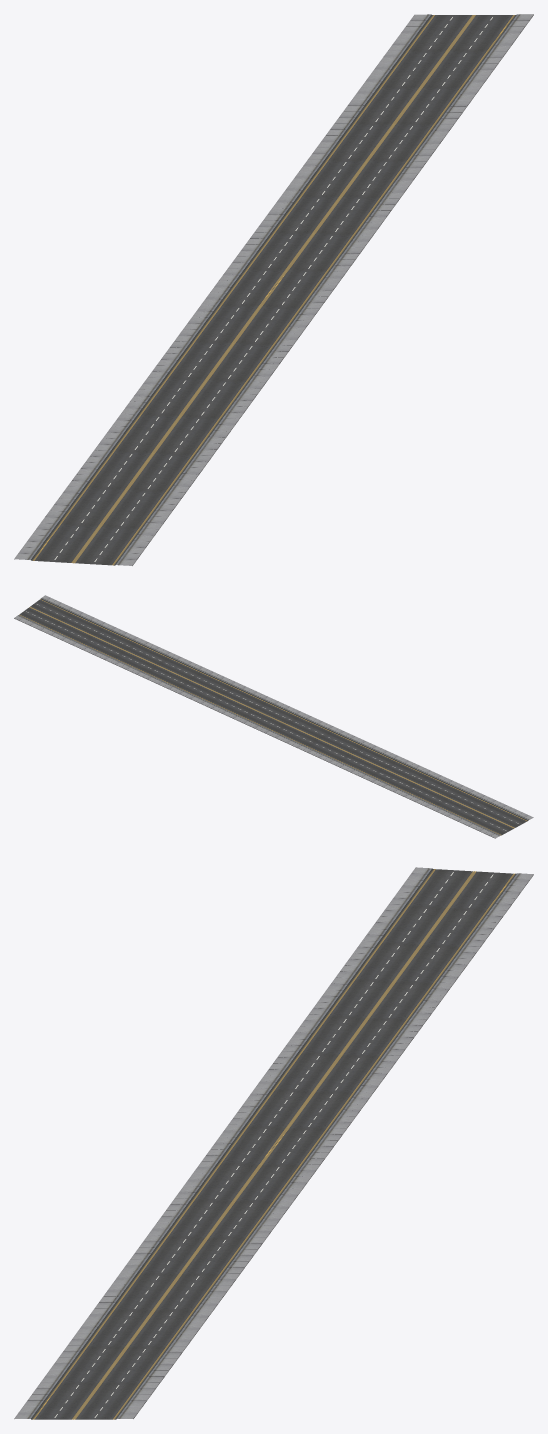
File: road4.glb
3 views of the same model, one above another, from view 1: azimuth 90°, elevation 25°; view 2: azimuth 150°, elevation 25°; view 3: azimuth 270°, elevation 25° (orthographic). The views are drawn at different scales.
Parts seen in each view (by area): view 1: ro_4; view 2: ro_4; view 3: ro_4.
Boxes of the visible parts, x1,y1,x2,y2 form: ro_4: (14, 14, 533, 565); ro_4: (14, 595, 533, 838); ro_4: (14, 867, 533, 1419).
Size of the model in its own units: 332 by 0.1636 by 132.
Materials: 1 (1 with a texture image).
